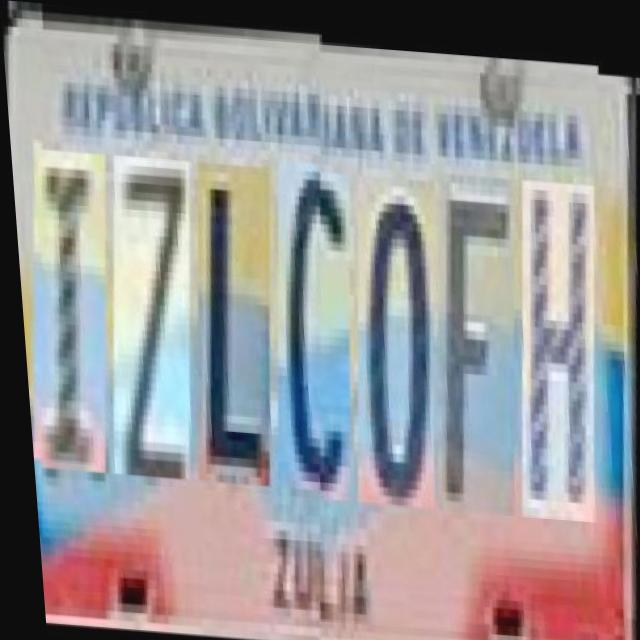c: (259, 155, 369, 489)
f: (418, 157, 534, 500)
h: (503, 162, 614, 504)
i: (15, 148, 124, 473)
l: (180, 158, 287, 484)
o: (339, 159, 454, 494)
z: (95, 153, 209, 478)
